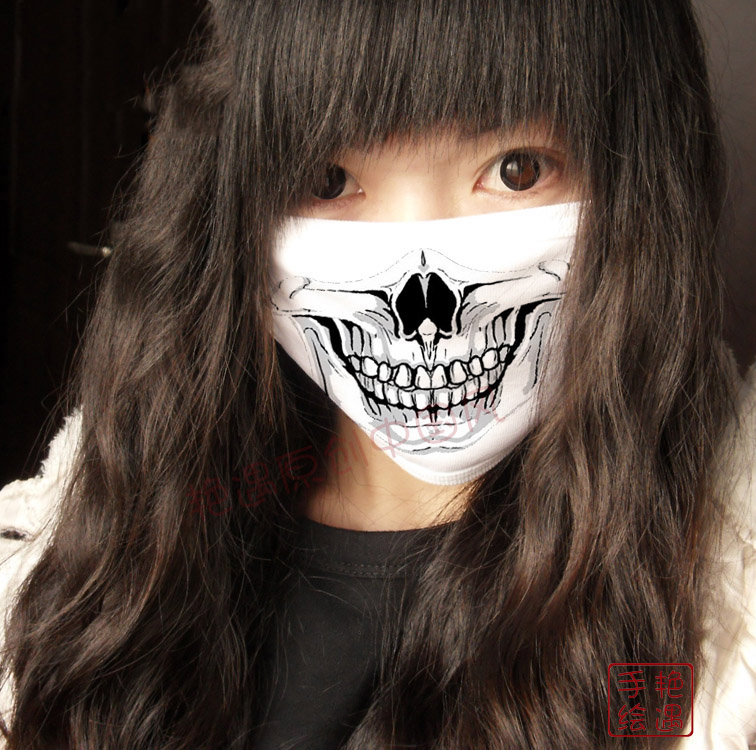face_mask: (268, 124, 579, 485)
